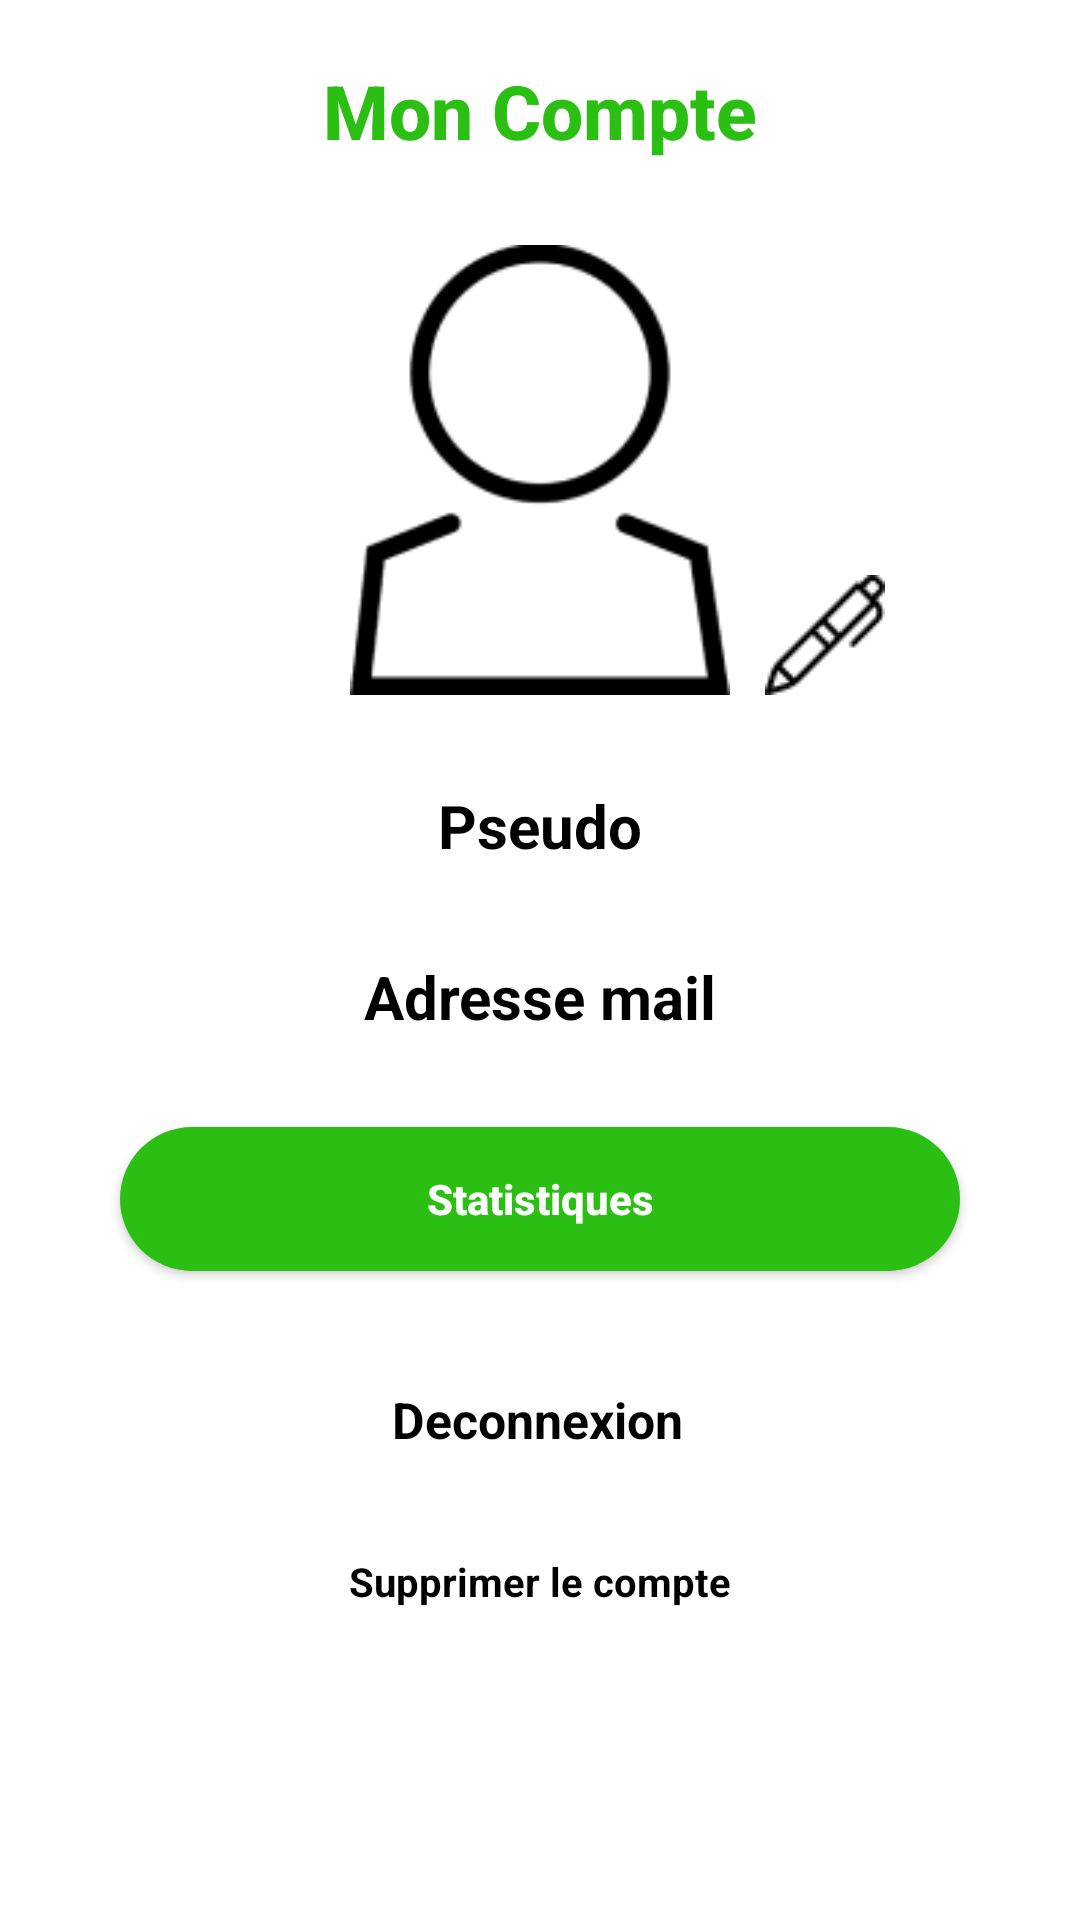

Where to tap for icons on this 1080*1920 app screen, as [x,y]:
stylo: [825,635]
